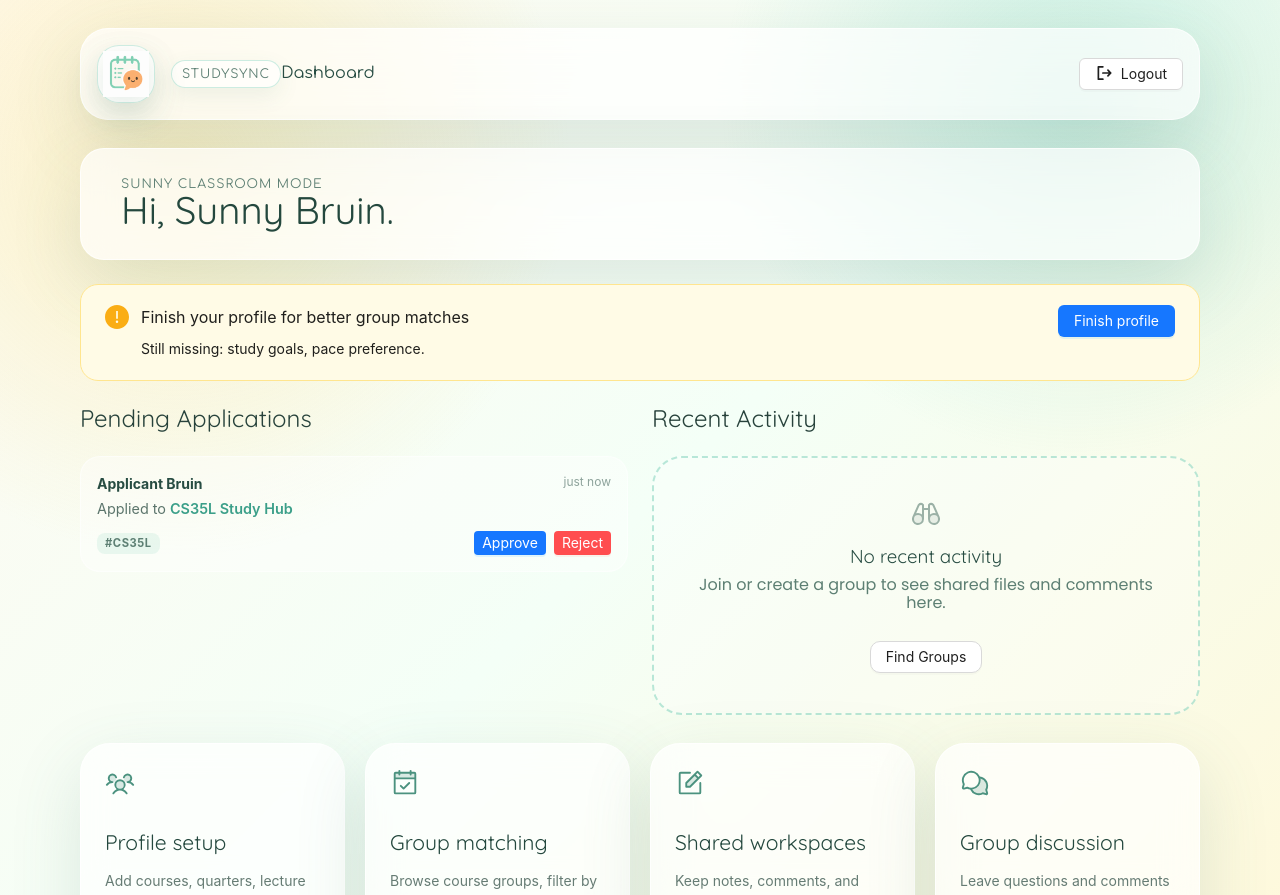
Test: DashboardPage › refreshes pending applications after a failed approve
Click the button "Approve": click(510, 543) left=474, top=531, right=546, bottom=555
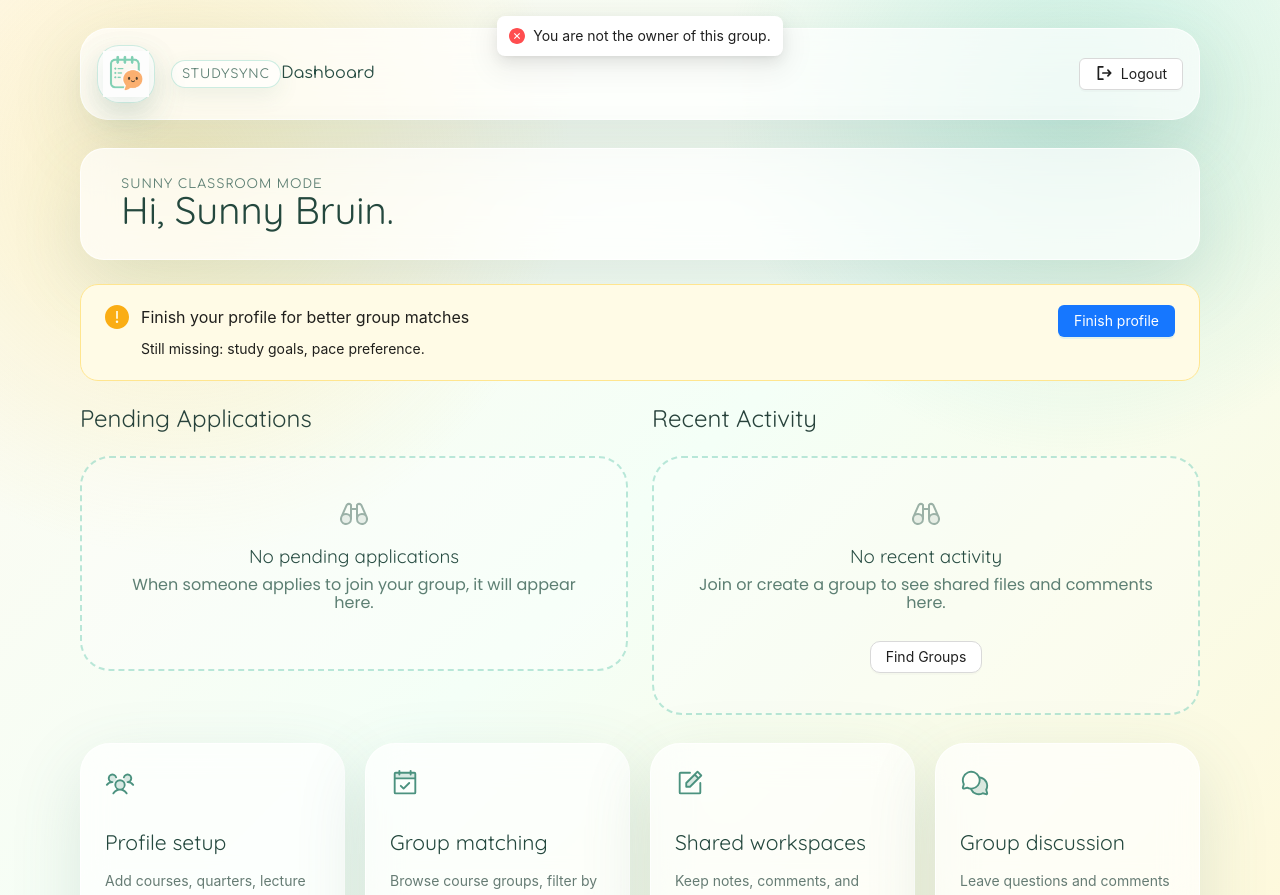
Check: the text "You are not the owner of this group." is shown, box left=533, top=25, right=771, bottom=47
